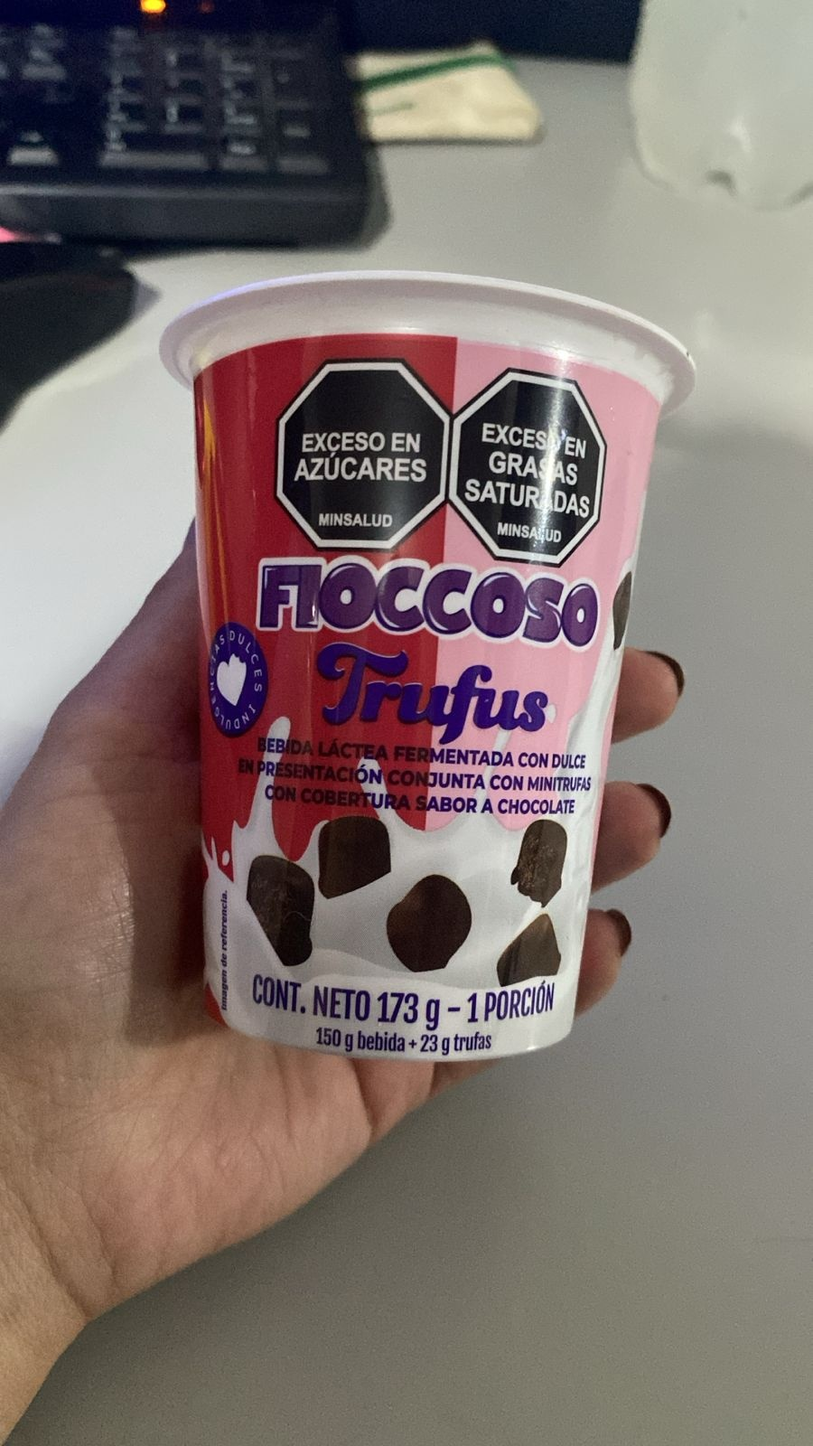Plastico: (159, 272, 699, 1063)
